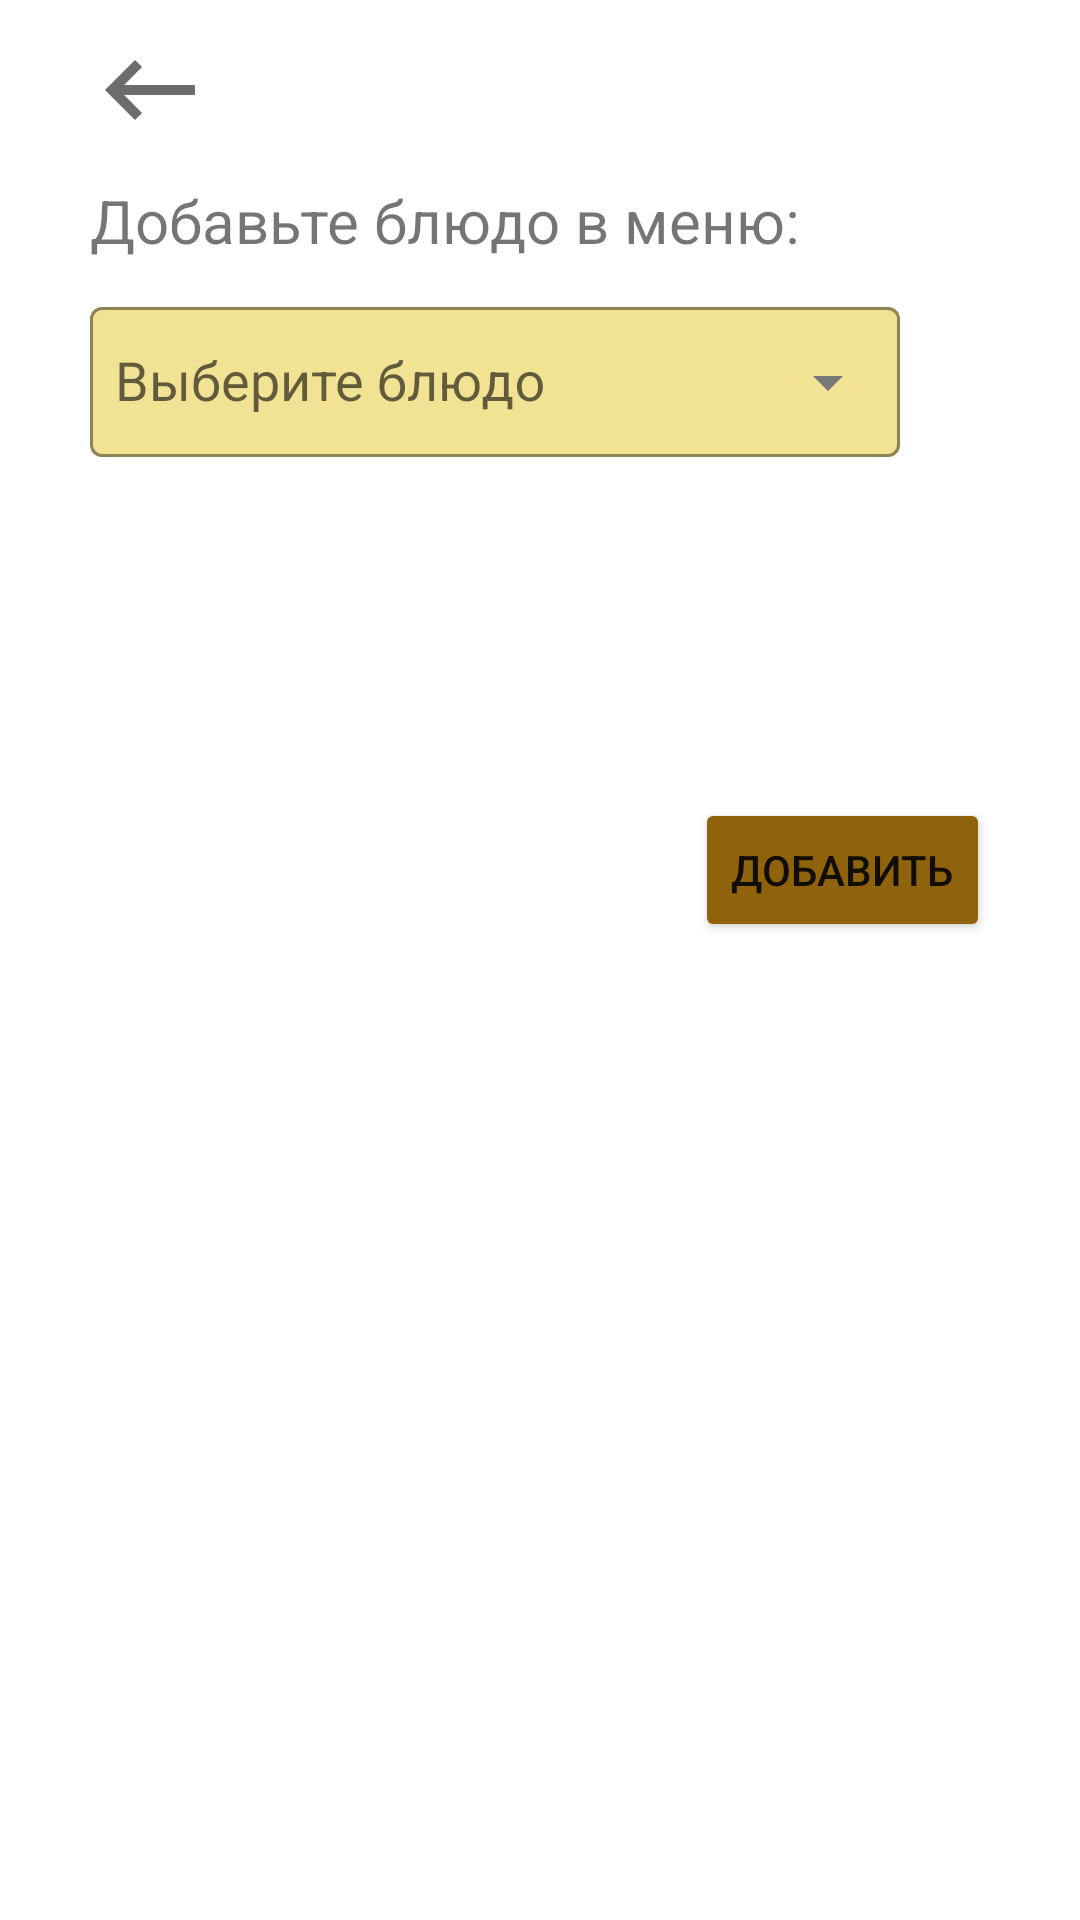

Where to tap for icons on this 1080px x 1920px app screen, as (x,y):
back: (150,90)
